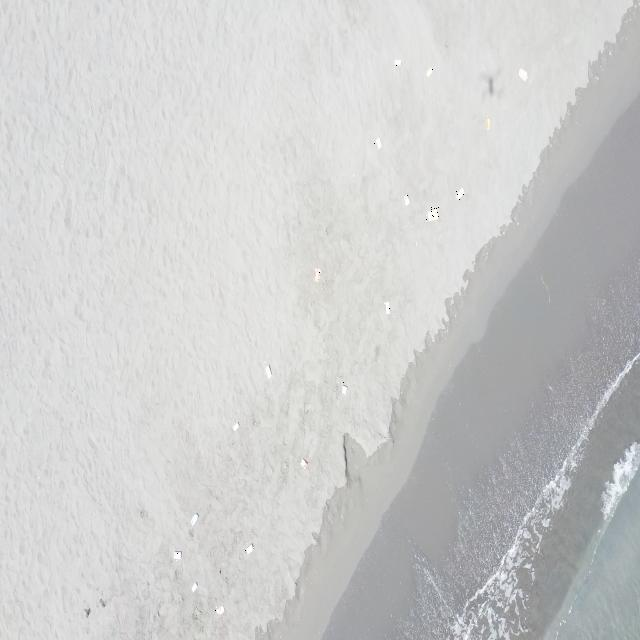Garbage: (426, 206, 437, 219), (517, 68, 527, 80), (190, 512, 198, 526), (213, 604, 223, 615), (455, 188, 464, 199), (313, 267, 320, 280), (484, 116, 491, 129), (340, 380, 347, 393), (264, 364, 271, 377), (373, 136, 380, 148), (243, 543, 252, 552), (384, 300, 390, 313), (232, 420, 239, 431), (300, 457, 307, 467), (172, 551, 180, 559), (426, 67, 433, 75), (192, 580, 196, 592), (404, 193, 408, 204), (393, 59, 400, 65)
